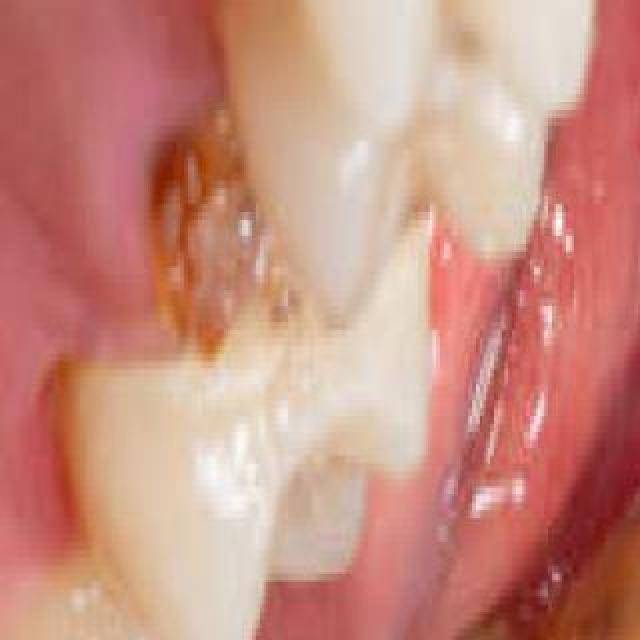calculus: (562, 422, 640, 576)
